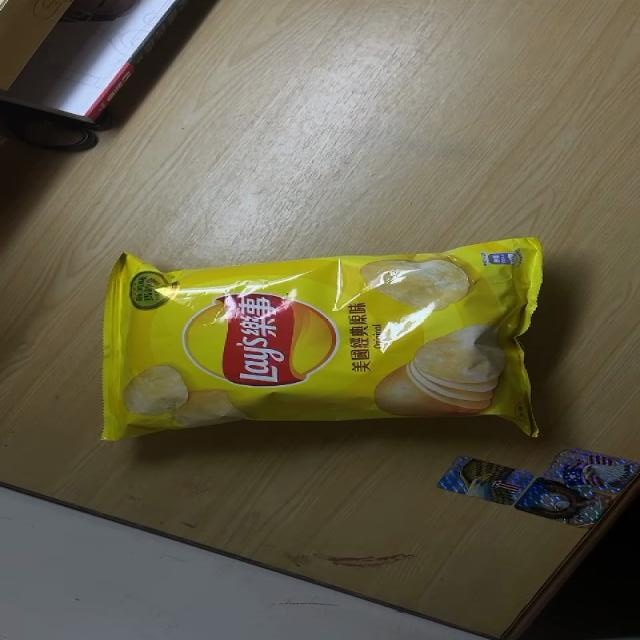Lay-s-original: (96, 236, 547, 443)
